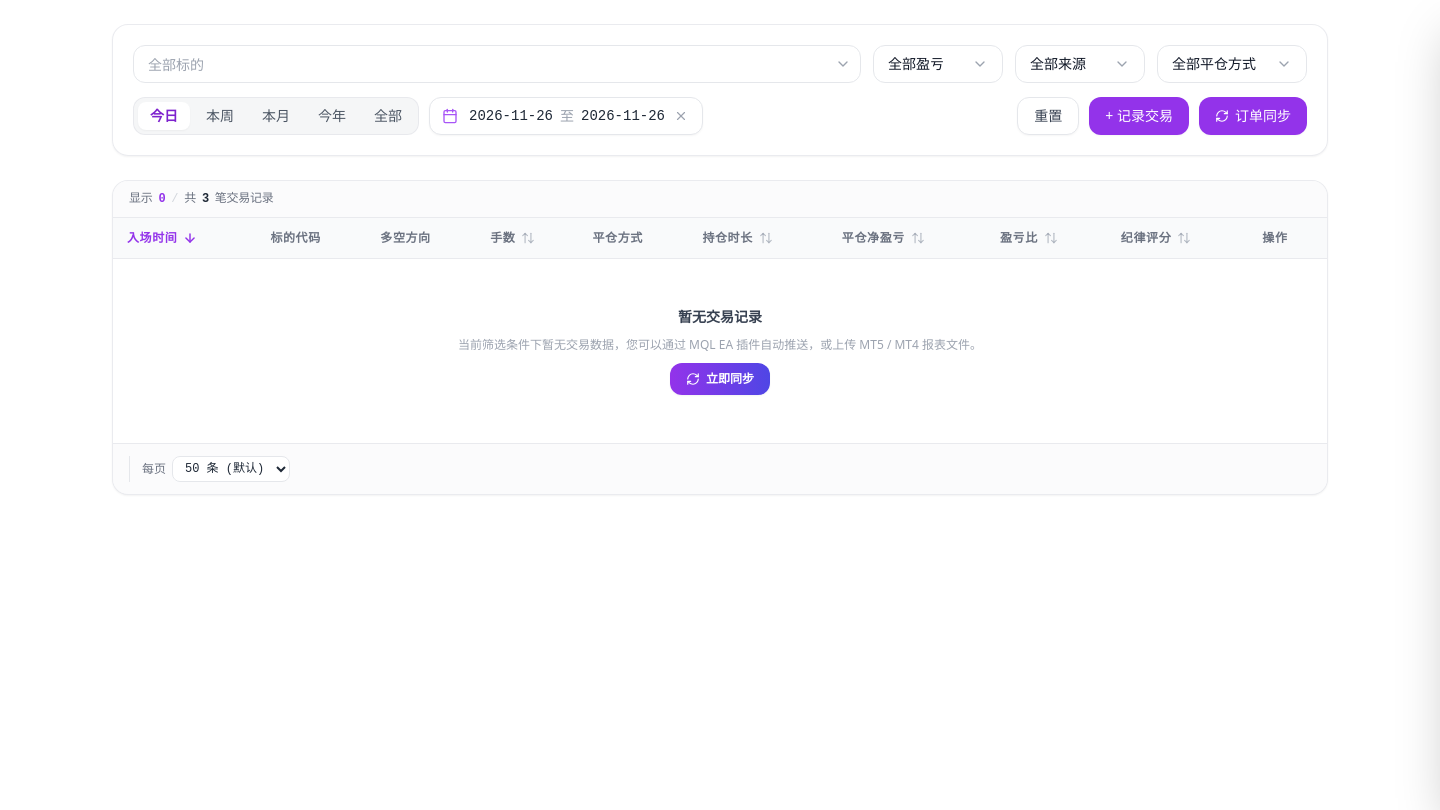
TradesPage › supports selecting an existing symbol from the dropdown list and clearing it
Note: View all trades
Click the button "全部".
click(388, 116)  # box [362,102,414,130]
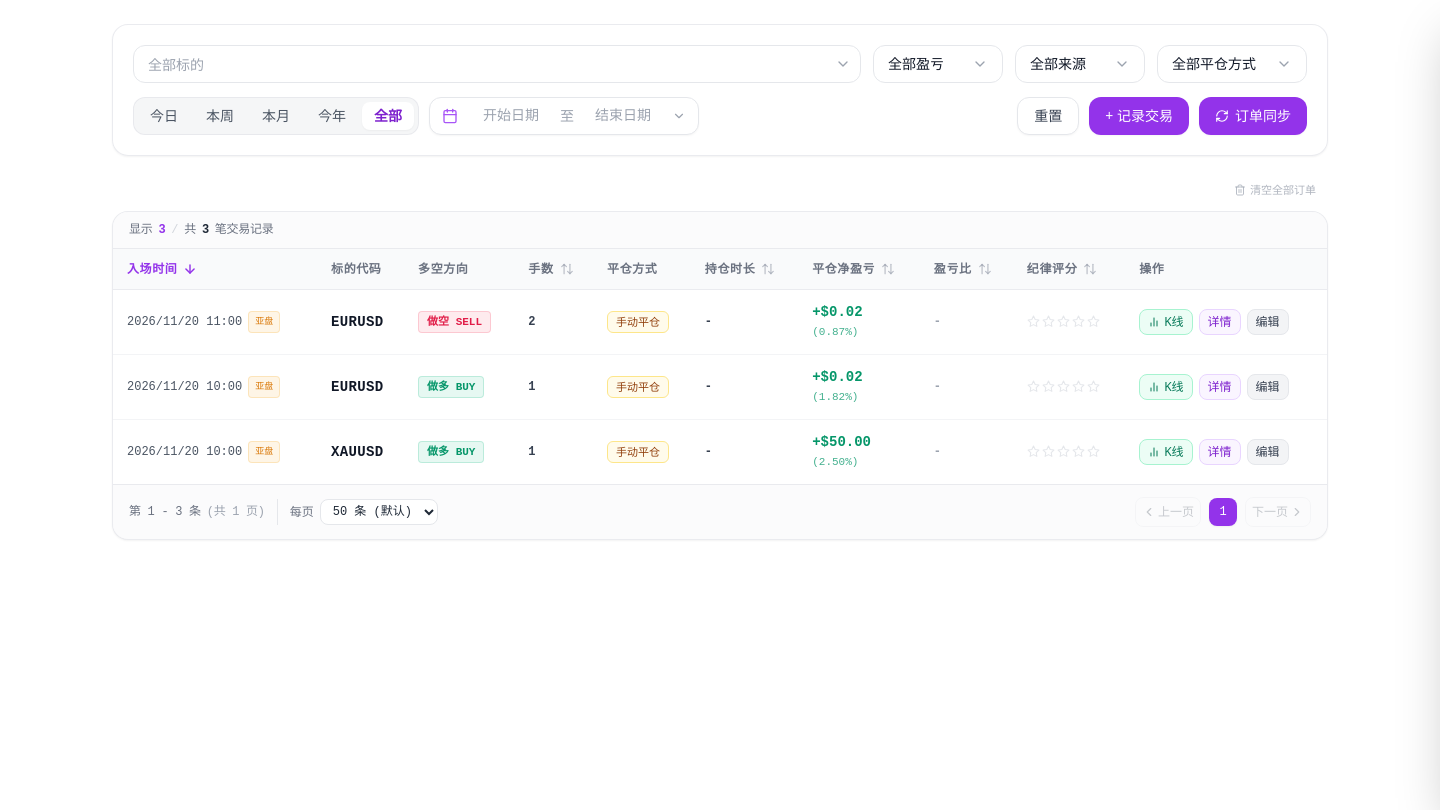
expect the text "XAUUSD" is shown: met, box [319,419,406,484]
Note: Open dropdown by clicking the dropdown button
Click the button named "选择已有标的".
click(843, 64)  # box [831,52,855,76]
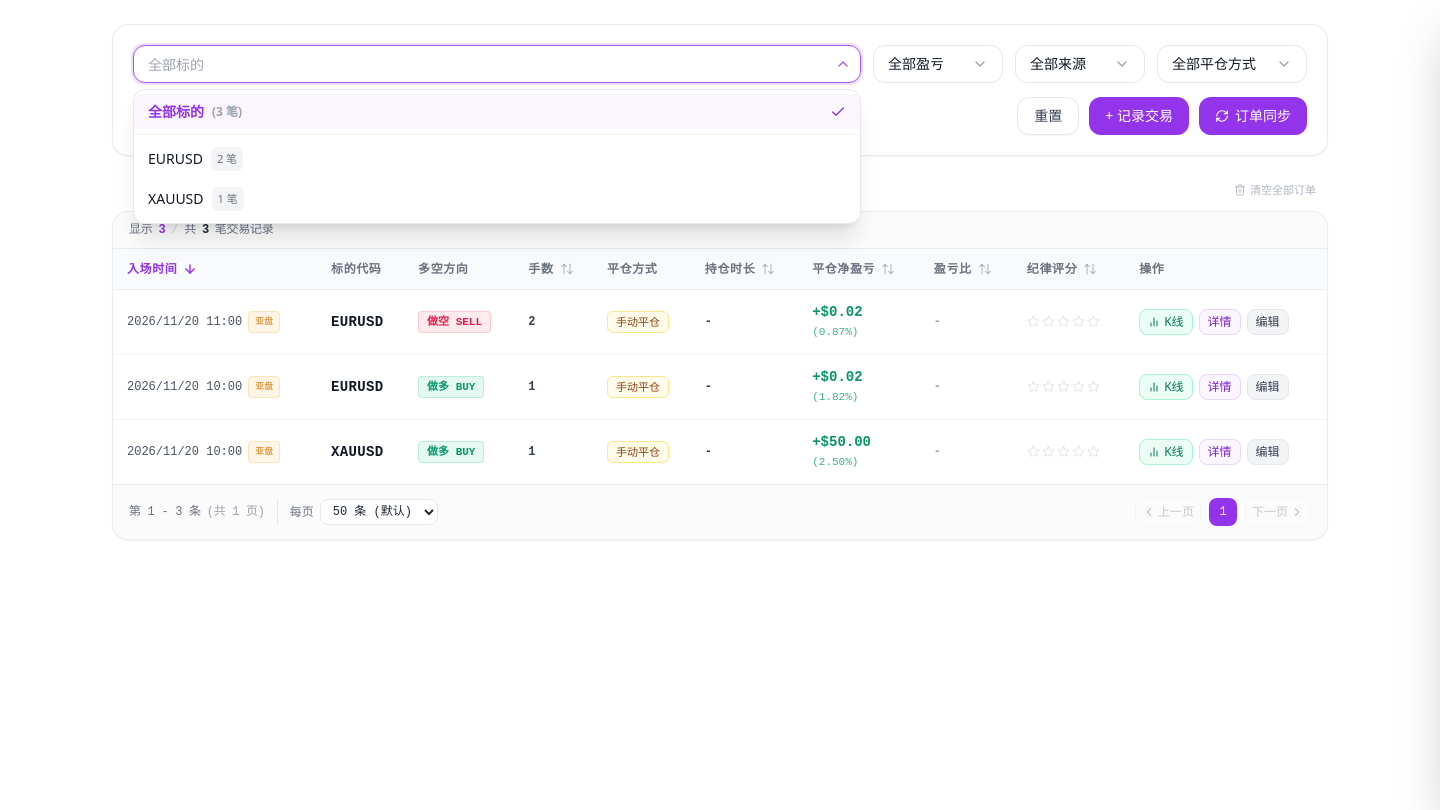
expect the text "全部标的" is shown: met, box [148,102,204,122]
expect the text "2 笔" is shown: met, box [211,147,243,171]
expect the text "1 笔" is shown: met, box [212,187,244,211]
Click the button "EURUSD 2 笔".
click(175, 158)  # box [134,139,860,179]
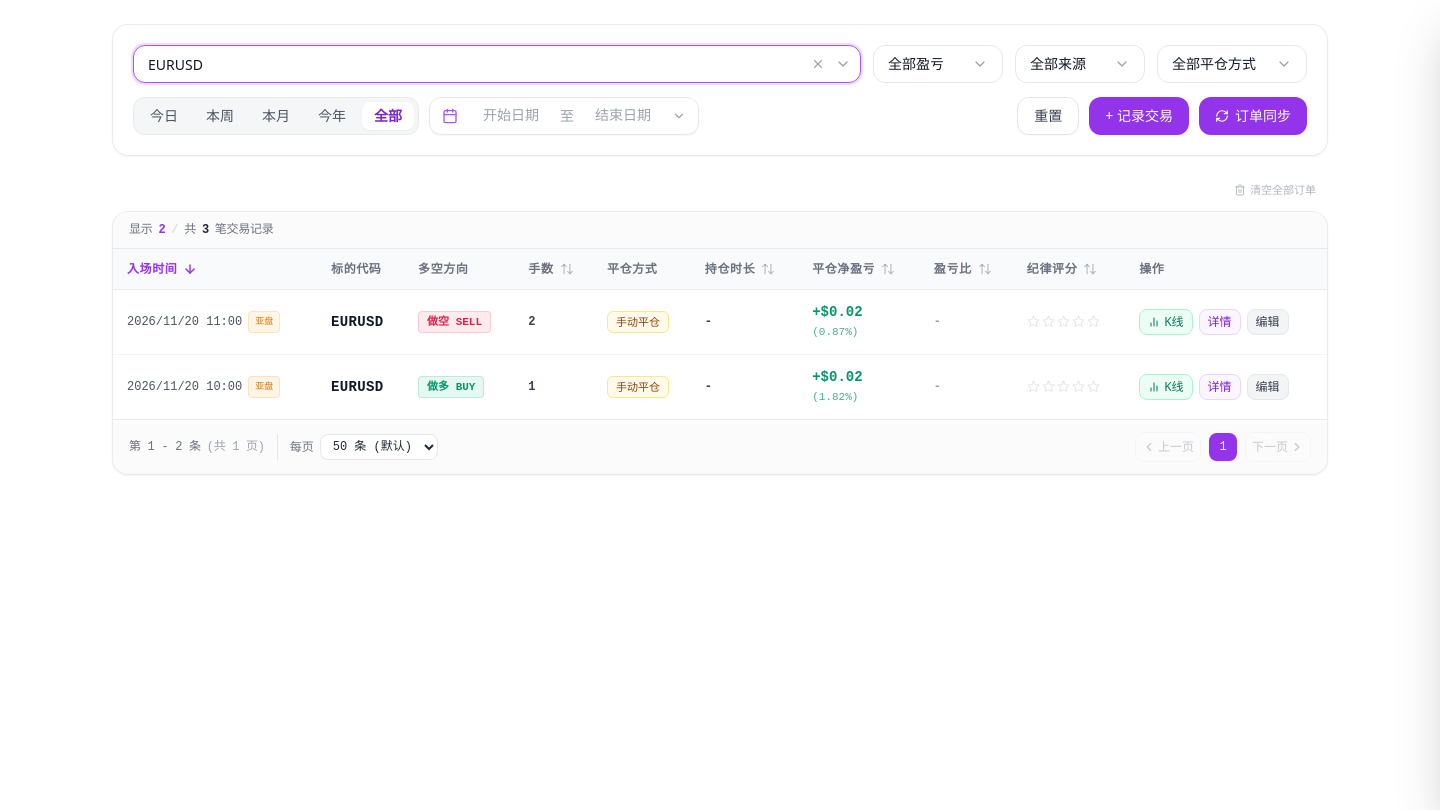
expect the field with placeholder "全部标的" holds "EURUSD": met, box [133,45,861,83]
expect the button "XAUUSD" is gone: met
expect the text "EURUSD" is shown 2 times: met, box [319,289,406,354]; [319,354,406,418]
Note: Click clear button (X)
Click the button named "清空标的".
click(818, 64)  # box [807,53,829,75]
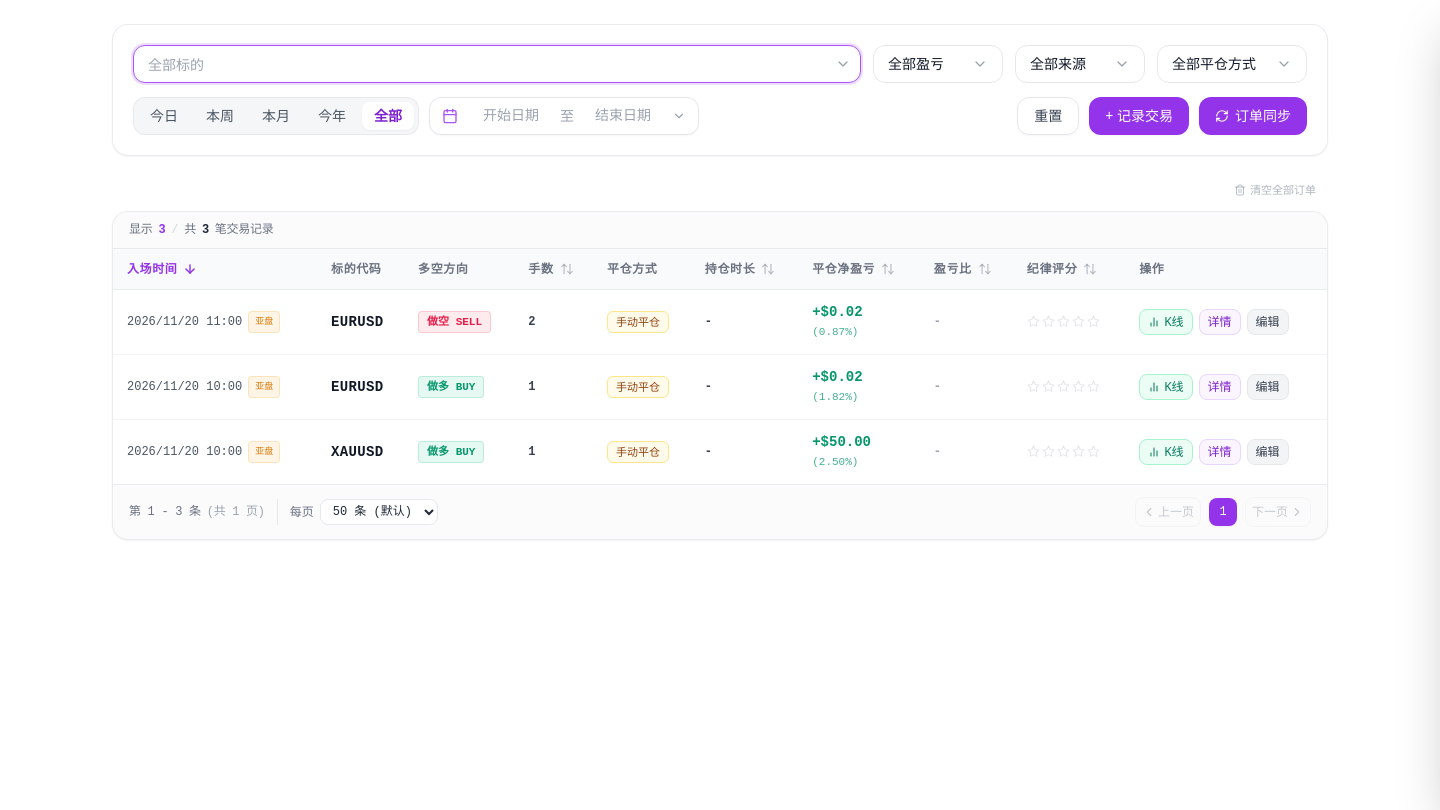
expect the field with placeholder "全部标的" is empty: met, box [133,45,861,83]
expect the text "XAUUSD" is shown: met, box [319,419,406,484]
